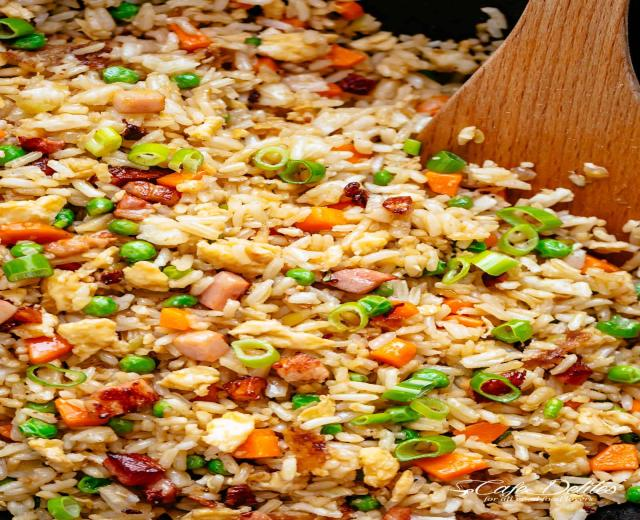fried rice: (5, 0, 615, 506), (418, 4, 630, 242), (7, 20, 259, 205), (214, 109, 428, 236)
